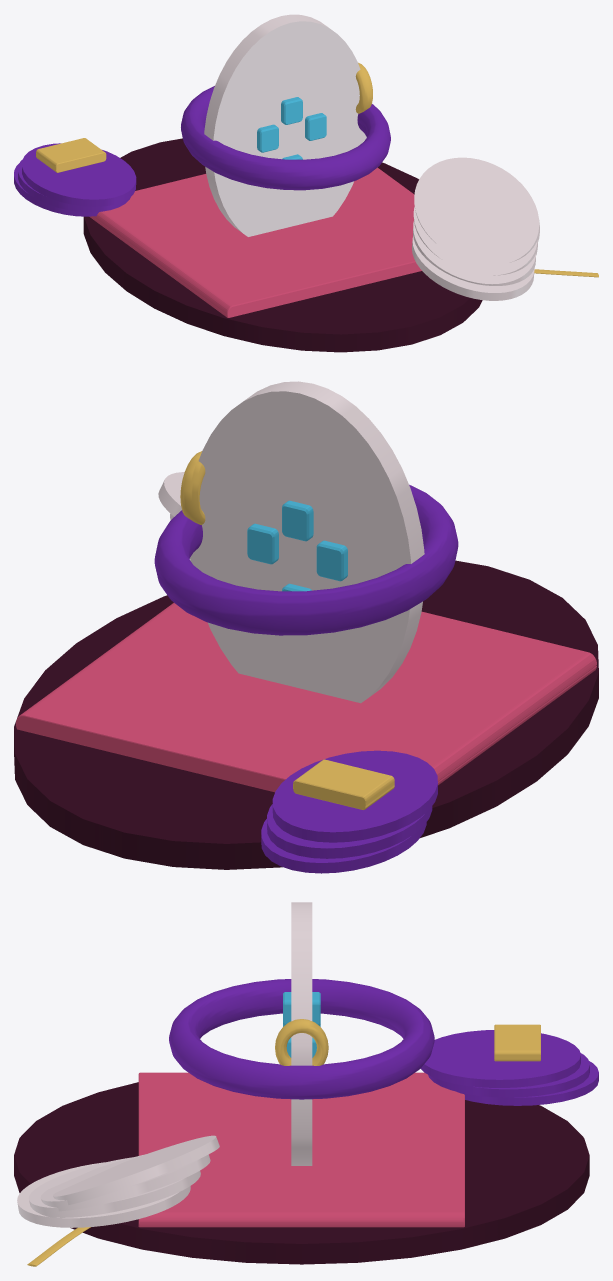
The model's file is 0726_钱币图鉴_五铢钱.glb.
3 renders of one model, top to bottom at view 1: azimuth 30°, elevation 25°; view 2: azimuth 150°, elevation 25°; view 3: azimuth 270°, elevation 25°, orthographic. The views are drawn at different scales.
Parts seen in each view (by area): view 1: card_0726; view 2: card_0726; view 3: card_0726.
Boxes of the visible parts, x1=… form: card_0726: x1=14, y1=14, x2=598, y2=352; card_0726: x1=14, y1=381, x2=598, y2=873; card_0726: x1=14, y1=902, x2=598, y2=1266.
Size of the model in its own units: 1.62 by 1 by 1.99.
